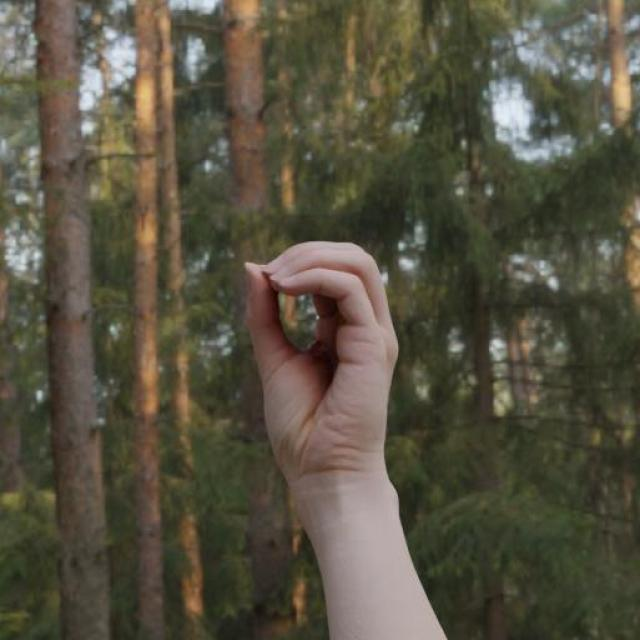O: (197, 207, 437, 598)
